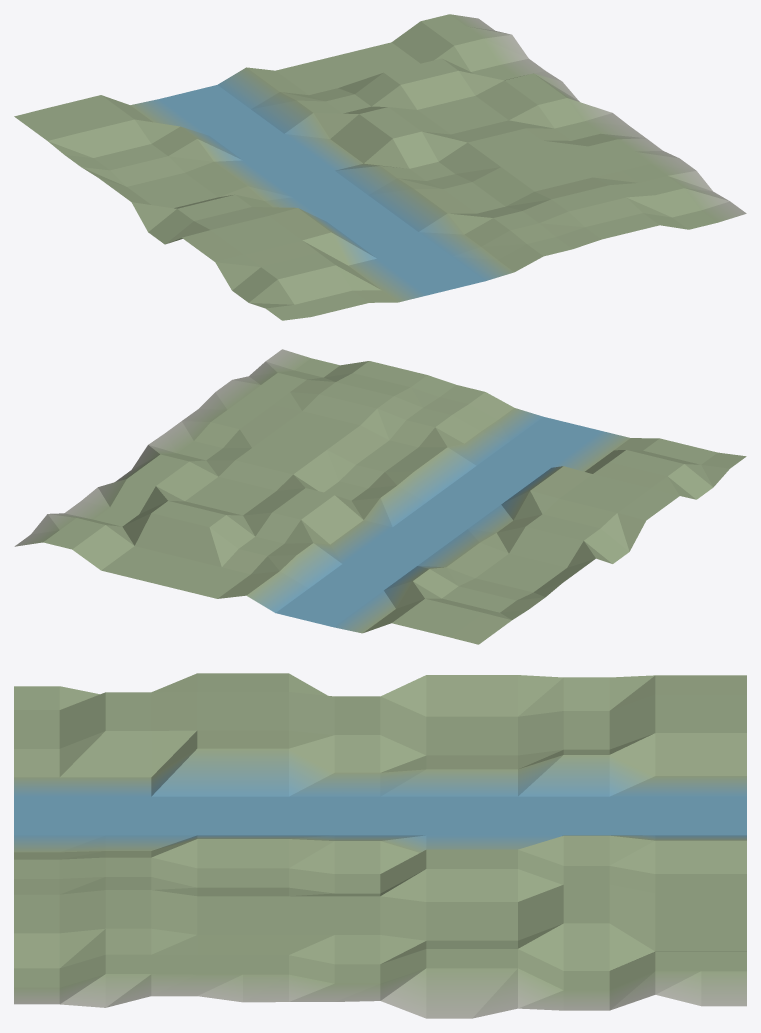
The picture shows the model from 3 angles, top to bottom: view 1: azimuth 30°, elevation 25°; view 2: azimuth 150°, elevation 25°; view 3: azimuth 270°, elevation 25°; orthographic projection. The views are drawn at different scales.
Bounding box in the file's own units: 32 × 1.81 × 32.
